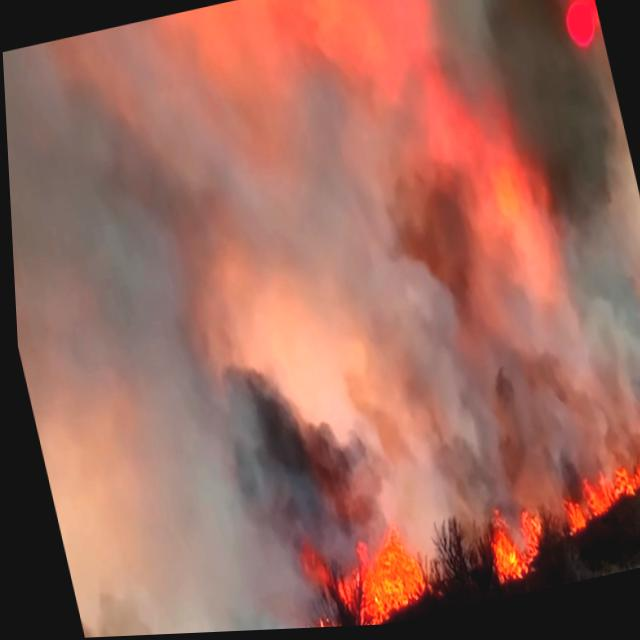fire: (263, 493, 442, 632)
smoke: (98, 0, 543, 457), (1, 17, 278, 640)
